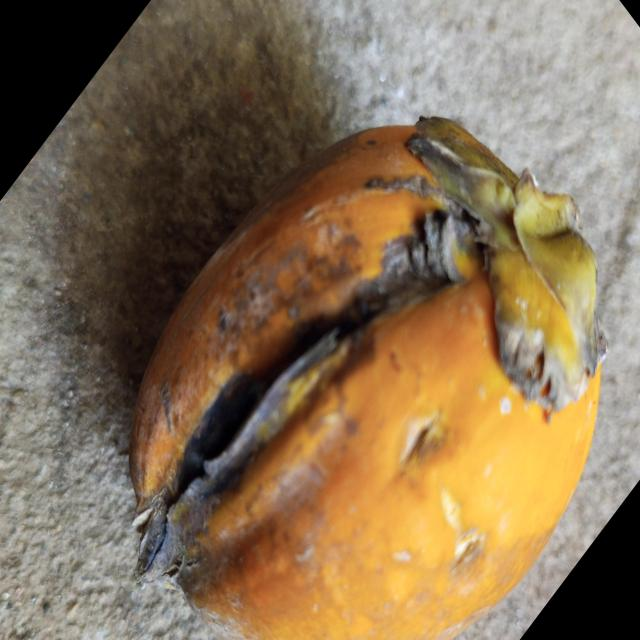damaged: (130, 117, 605, 640)
